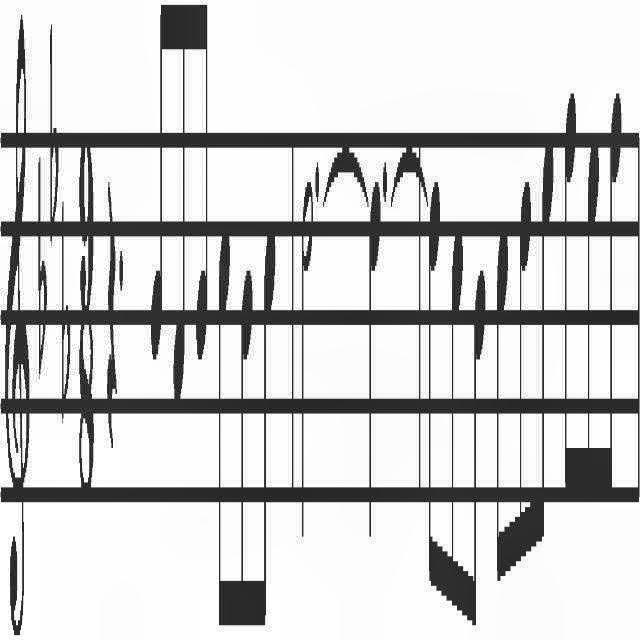Bass-clef: (4, 3, 30, 640)
Bemol: (37, 147, 47, 390), (49, 7, 59, 250), (61, 194, 71, 434)
Eighth-note: (533, 126, 555, 578), (600, 80, 620, 542), (254, 221, 276, 627), (578, 126, 598, 536), (444, 219, 464, 625), (513, 176, 531, 588), (468, 251, 486, 640), (235, 258, 253, 634), (216, 224, 232, 640), (150, 1, 167, 376), (194, 1, 210, 392), (427, 170, 441, 612), (563, 86, 577, 520), (173, 3, 187, 409), (495, 215, 509, 600)
Half-note: (300, 166, 314, 554)
Quarter-note: (367, 175, 381, 557)
Quarter-rest: (106, 172, 118, 456)
